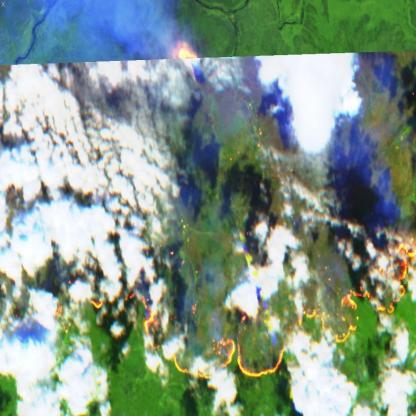fire: (0, 39, 416, 385)
